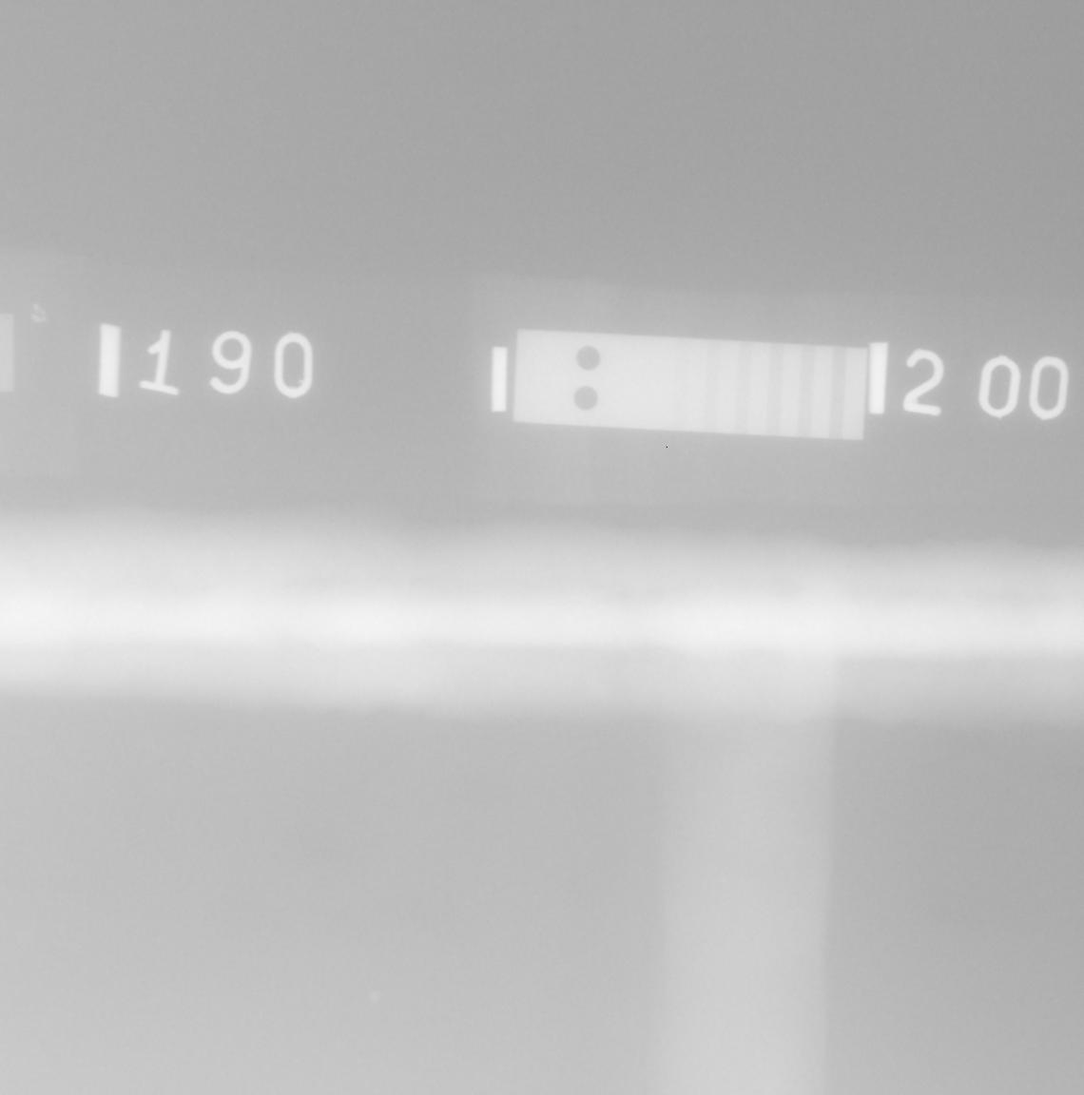Reference Standard 2: (513, 329, 868, 441)
